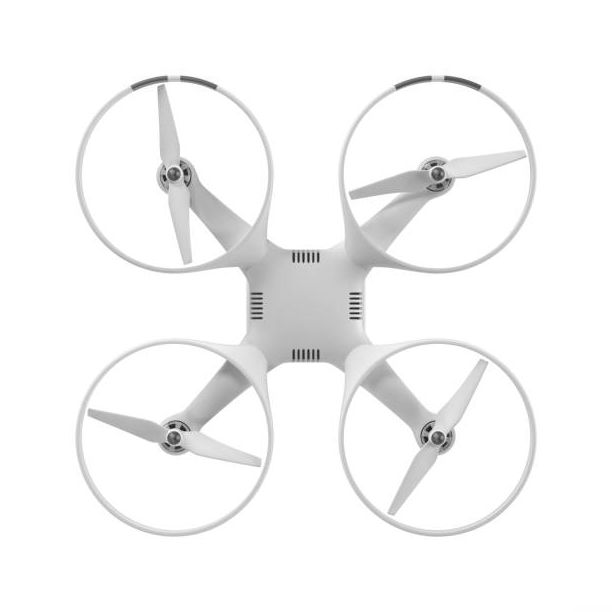Drone: (62, 59, 549, 544)
